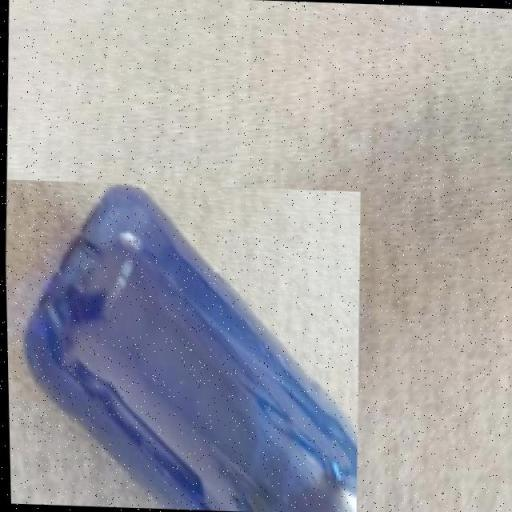plastic: (3, 179, 365, 512)
